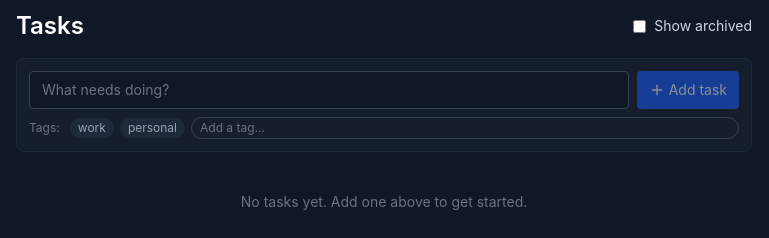
Test: Tasks – archive toggle › renders an archived task with dim style when Show archived is on
Expected: the list item "No tasks yet. Add one above to get started." is shown, [241,193,527,210]
What coordinates should you click on to do the following:
click the checkbox labelled "Show archived"
I would click on:
 (640, 26)
Its box is [633,20,646,32].
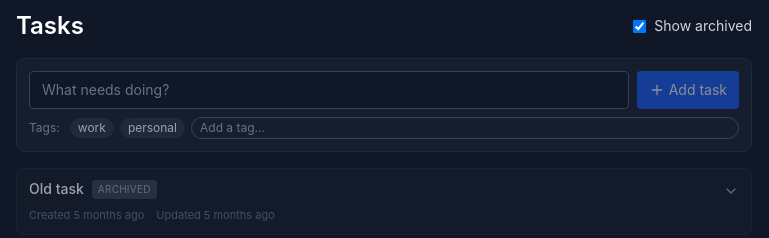
Now the text "Old task" is shown, box [29,179,84,199]
